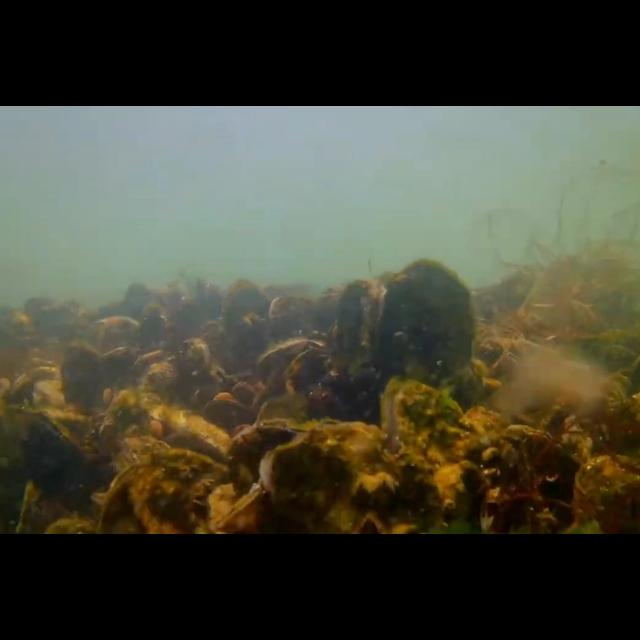Oyster-Closed: (380, 260, 474, 408), (226, 418, 340, 534), (98, 448, 235, 534), (0, 405, 86, 535), (482, 424, 582, 534), (327, 278, 387, 396), (95, 392, 149, 483), (61, 340, 109, 418), (174, 338, 213, 410), (177, 409, 231, 457), (2, 371, 32, 407)
Oyster-Open: (380, 378, 490, 534), (260, 419, 394, 535), (254, 339, 326, 401), (213, 485, 265, 535), (125, 349, 175, 393)
